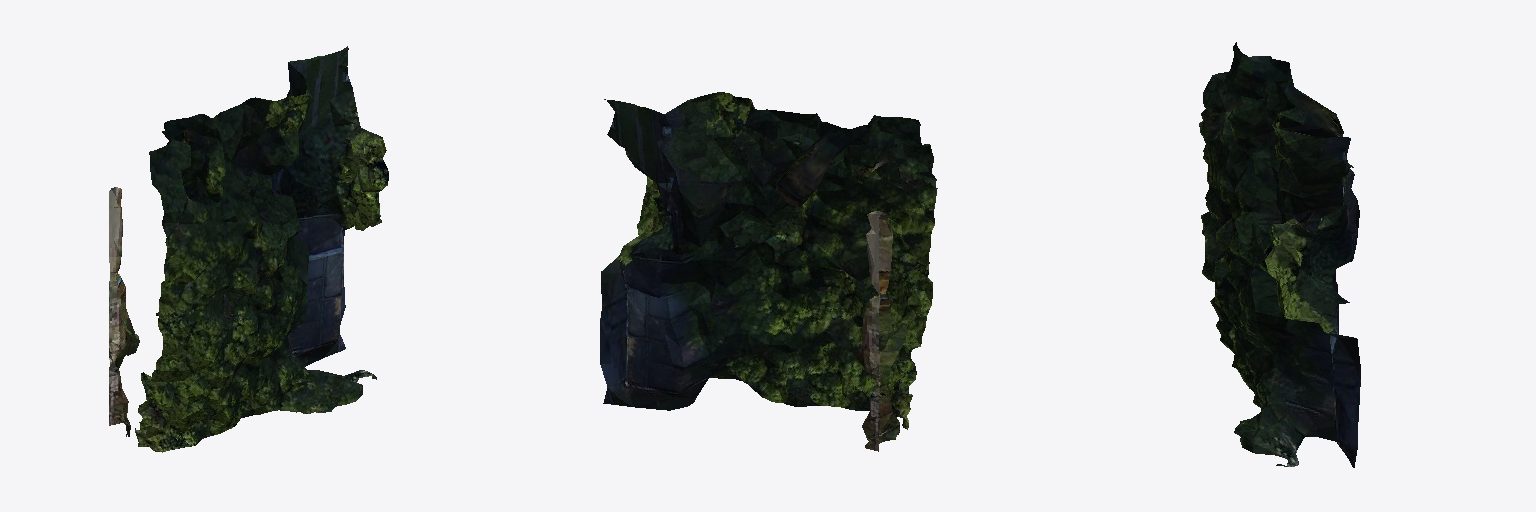
The picture shows the model from 3 angles: view 1: azimuth 30°, elevation 25°; view 2: azimuth 150°, elevation 25°; view 3: azimuth 270°, elevation 25°; orthographic projection.
Visible parts, largest first — view 1: obj_0; view 2: obj_0; view 3: obj_0.
Boxes of the visible parts, <box> form: obj_0: <box>109,46,388,452</box>; obj_0: <box>600,92,937,451</box>; obj_0: <box>1199,42,1360,467</box>.
Bounding box in the file's own units: 40.19 × 45.06 × 21.88.
1 materials, 1 textured.